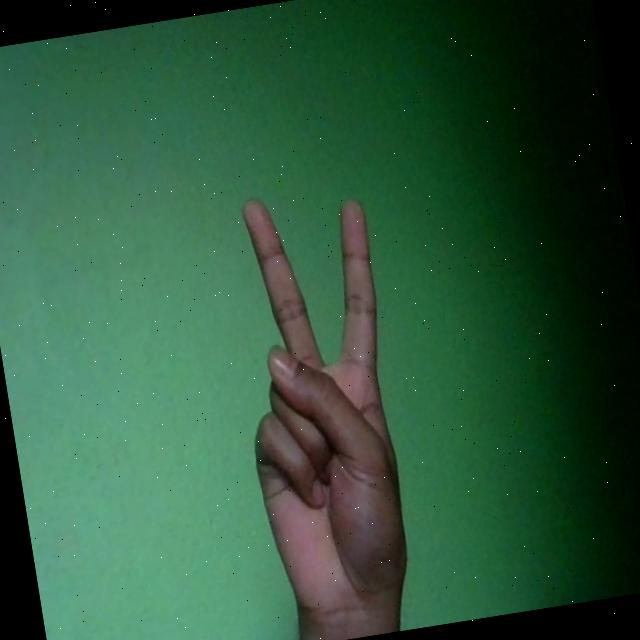Fist: (215, 183, 428, 633)
